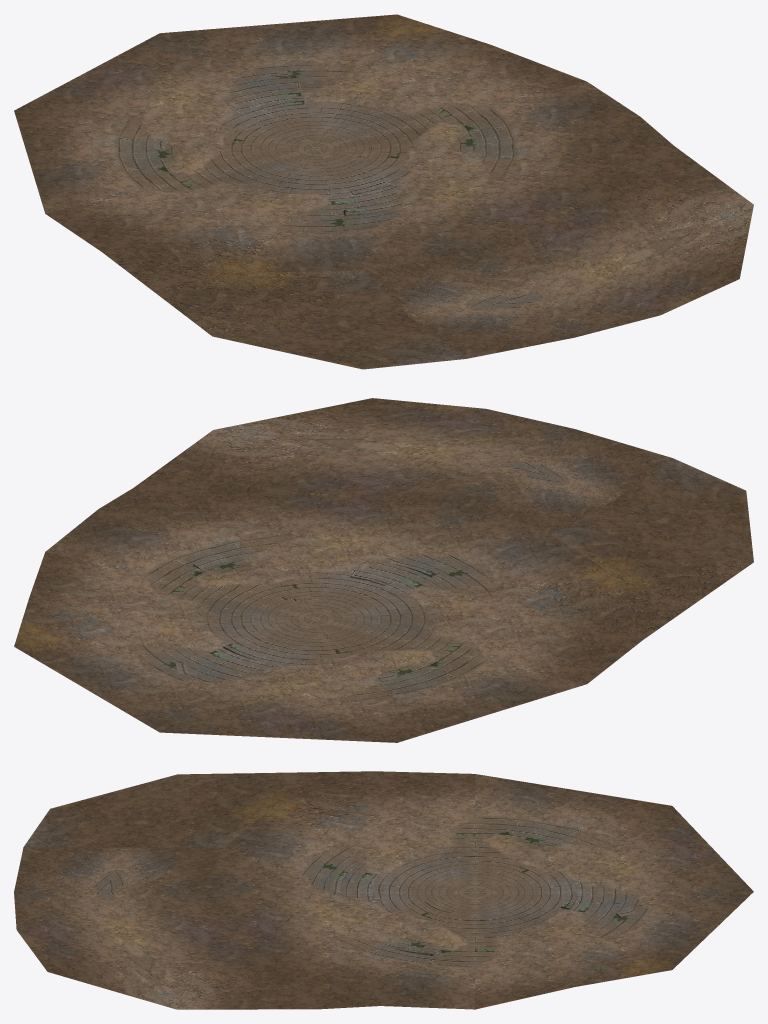
The model's file is JJC_dibiao_001.FBX.
3 renders of one model, top to bottom at view 1: azimuth 30°, elevation 25°; view 2: azimuth 150°, elevation 25°; view 3: azimuth 270°, elevation 25°, orthographic. The views are drawn at different scales.
Parts seen in each view (by area): view 1: JJC_dibiao_001; view 2: JJC_dibiao_001; view 3: JJC_dibiao_001.
Boxes of the visible parts, x1,y1,x2,y2 form: JJC_dibiao_001: (14,14,753,369); JJC_dibiao_001: (14,398,753,742); JJC_dibiao_001: (14,771,753,1009).
Bounding box in the file's own units: 2112 × 38.12 × 2803.
